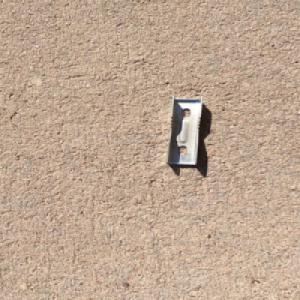ClampPart: (163, 94, 206, 166)
